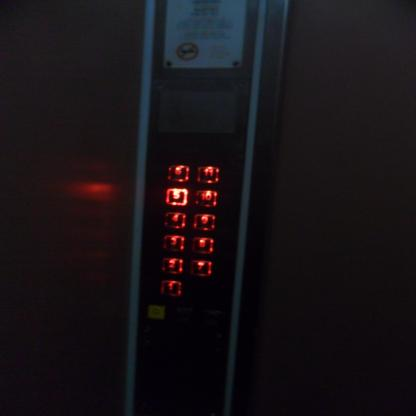1: (160, 280, 182, 296)
10: (194, 189, 217, 208)
11: (196, 165, 219, 183)
2: (161, 257, 184, 274)
3: (162, 235, 186, 251)
4: (163, 212, 186, 228)
5: (166, 187, 188, 206)
6: (167, 164, 190, 183)
7: (188, 259, 212, 276)
8: (190, 236, 214, 253)
9: (192, 213, 216, 232)
alarm: (144, 304, 166, 320)
